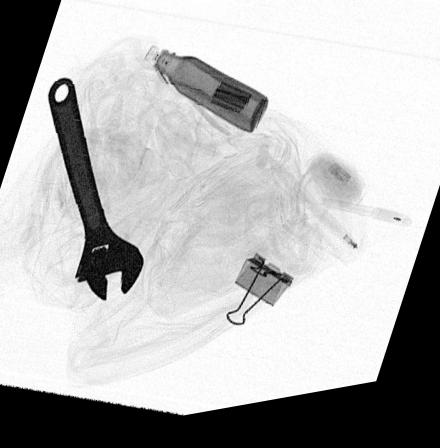Wrench: (46, 80, 146, 306)
